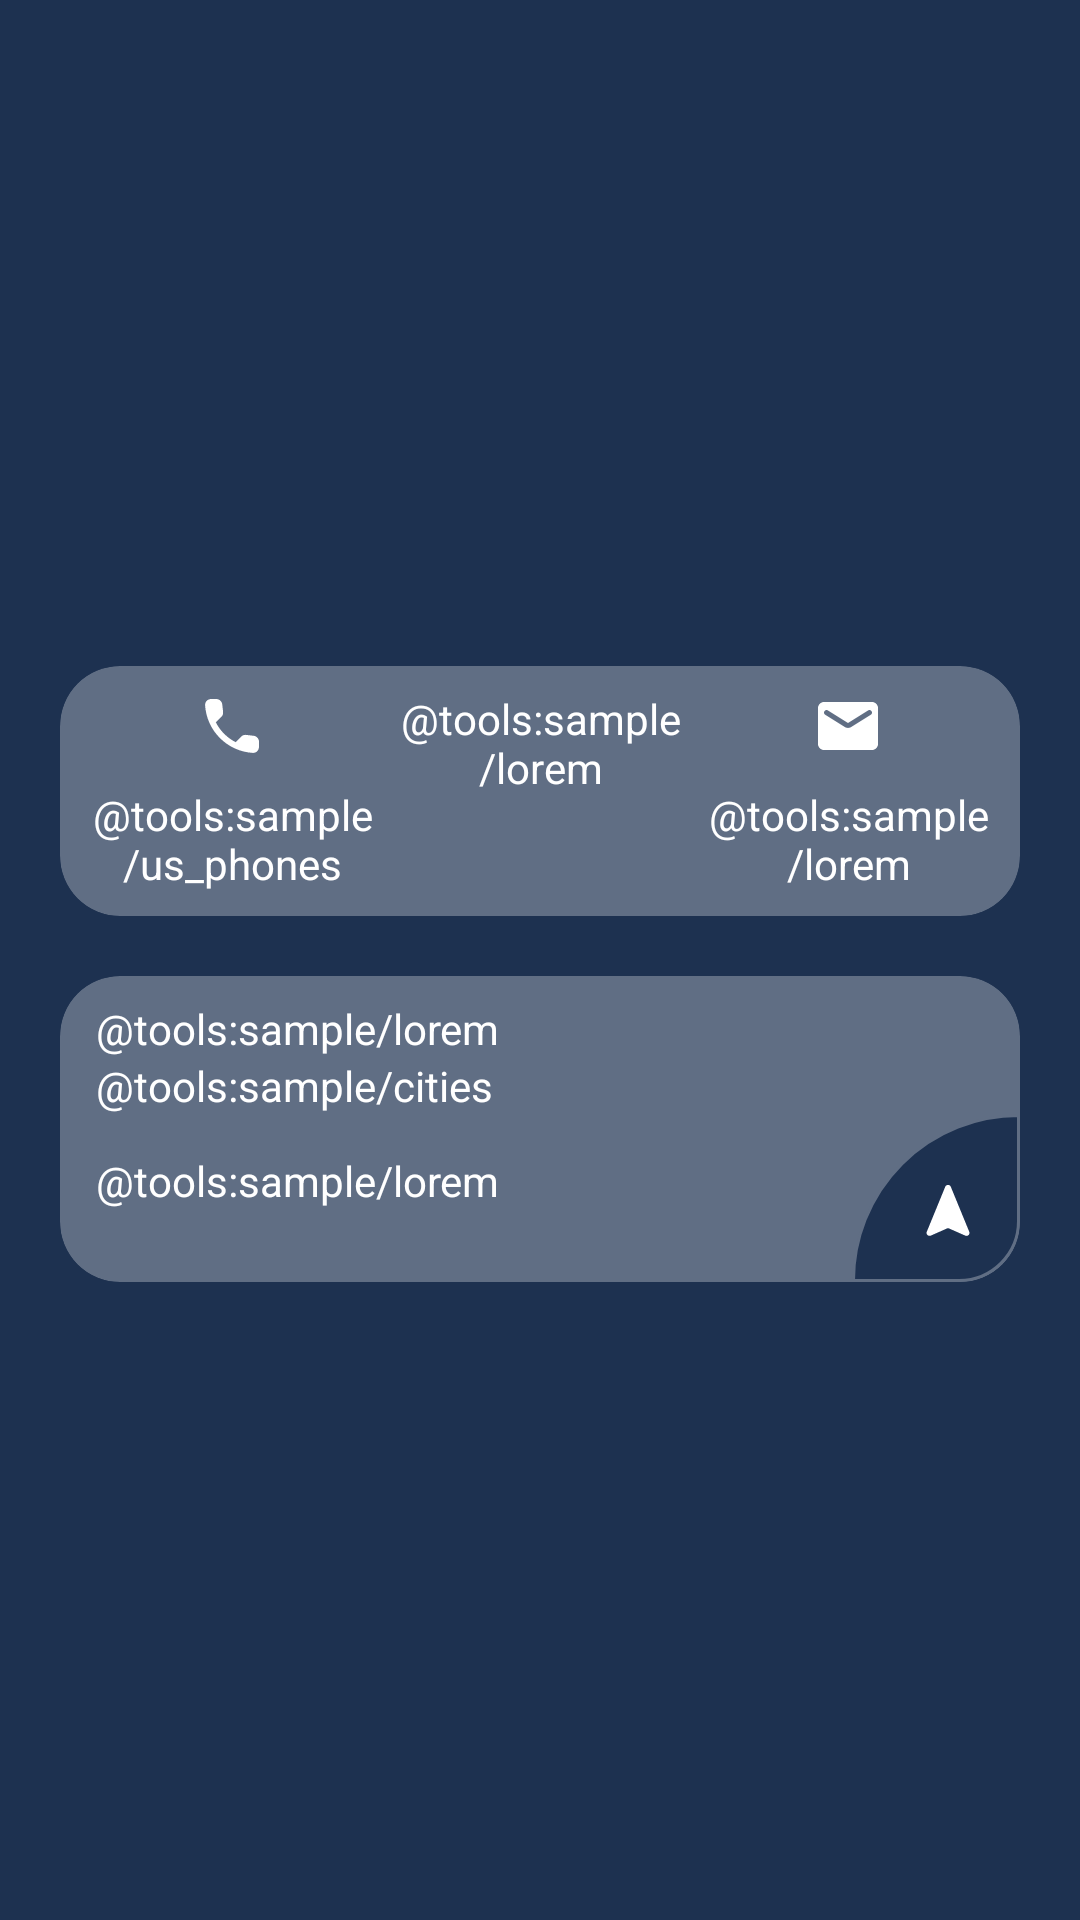

Icon click points for this 1080w x 1920h phone screenshot, format (x=x, y=y):
navigation: (x=936, y=1198)
